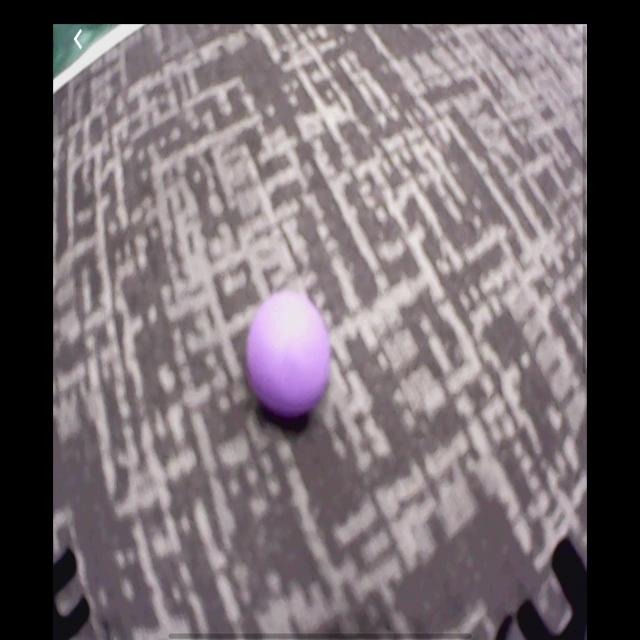ball: (245, 291, 331, 422)
